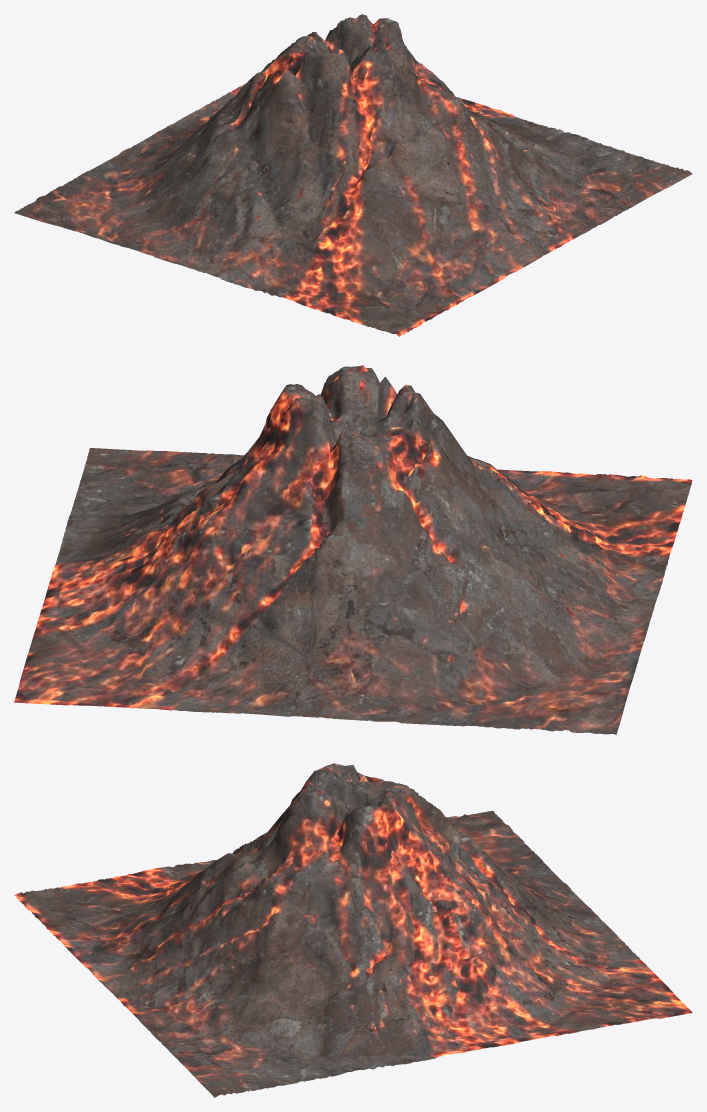
Rendered from Muspelheim_East_Volcano.glb.
3 renders of one model, top to bottom at view 1: azimuth 30°, elevation 25°; view 2: azimuth 150°, elevation 25°; view 3: azimuth 270°, elevation 25°, orthographic. The views are drawn at different scales.
Visible parts, largest first — view 1: Landscape; view 2: Landscape; view 3: Landscape.
Boxes of the visible parts, x1=… form: Landscape: x1=14, y1=14, x2=692, y2=336; Landscape: x1=14, y1=365, x2=692, y2=734; Landscape: x1=14, y1=763, x2=692, y2=1097.
Size of the model in its own units: 99.43 by 28.07 by 99.43.
1 material, 1 textured.
